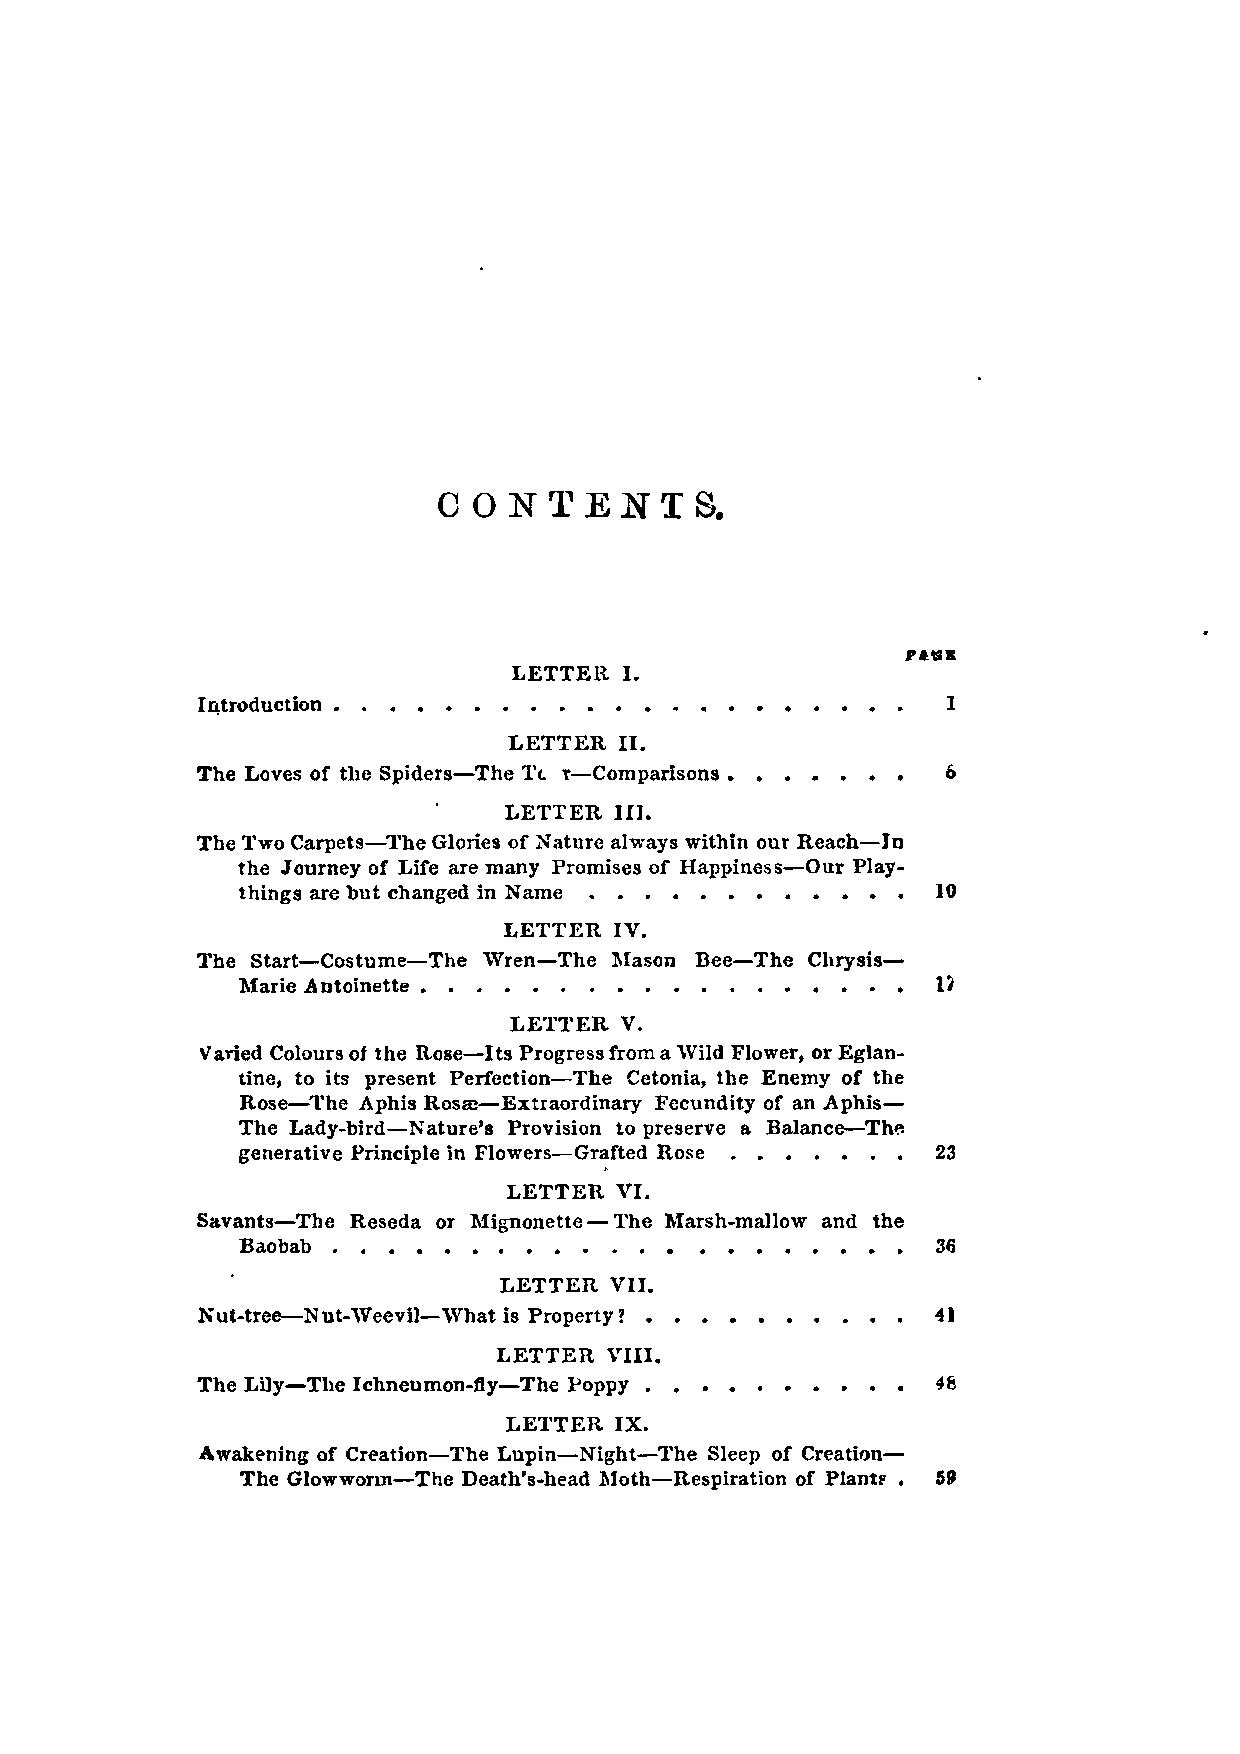TOC_chapter: (196, 1044, 909, 1162), (195, 831, 909, 903), (195, 1208, 905, 1257), (193, 947, 909, 994), (199, 1441, 906, 1487), (189, 761, 722, 782), (196, 1300, 631, 1325), (195, 1372, 628, 1394), (491, 1342, 662, 1365), (502, 1410, 650, 1435), (501, 800, 654, 823), (498, 1274, 656, 1295), (501, 729, 650, 752), (501, 917, 648, 939), (507, 659, 641, 683), (506, 1012, 645, 1033), (502, 1180, 650, 1200), (195, 695, 323, 715)
TOC_pagenumber: (931, 876, 958, 899), (935, 1369, 958, 1392), (934, 1464, 955, 1488), (937, 760, 960, 781), (935, 1302, 957, 1325), (934, 1139, 955, 1159), (935, 1233, 957, 1253), (935, 972, 955, 992), (939, 691, 958, 713)
chapter: (433, 486, 727, 523)
